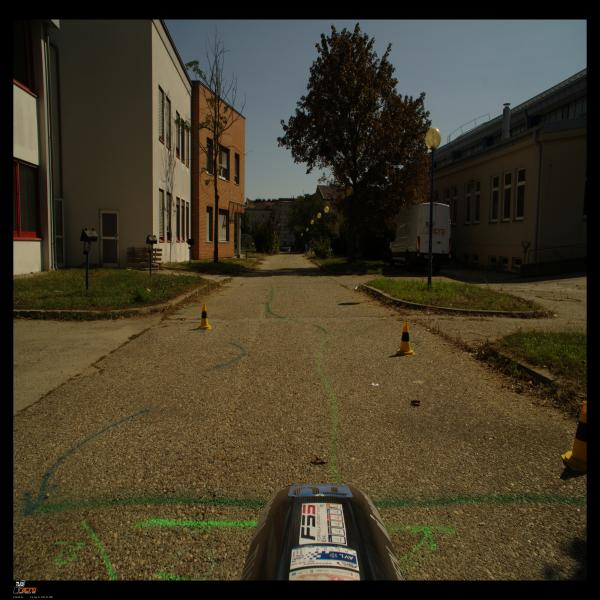yellow_cone: (560, 402, 586, 472), (394, 322, 416, 356), (198, 304, 211, 329)
